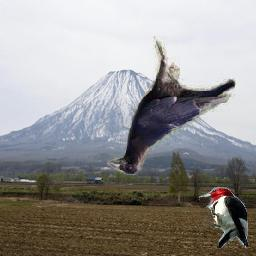Crow: (108, 37, 237, 176)
Woodpecker: (198, 188, 249, 249)
